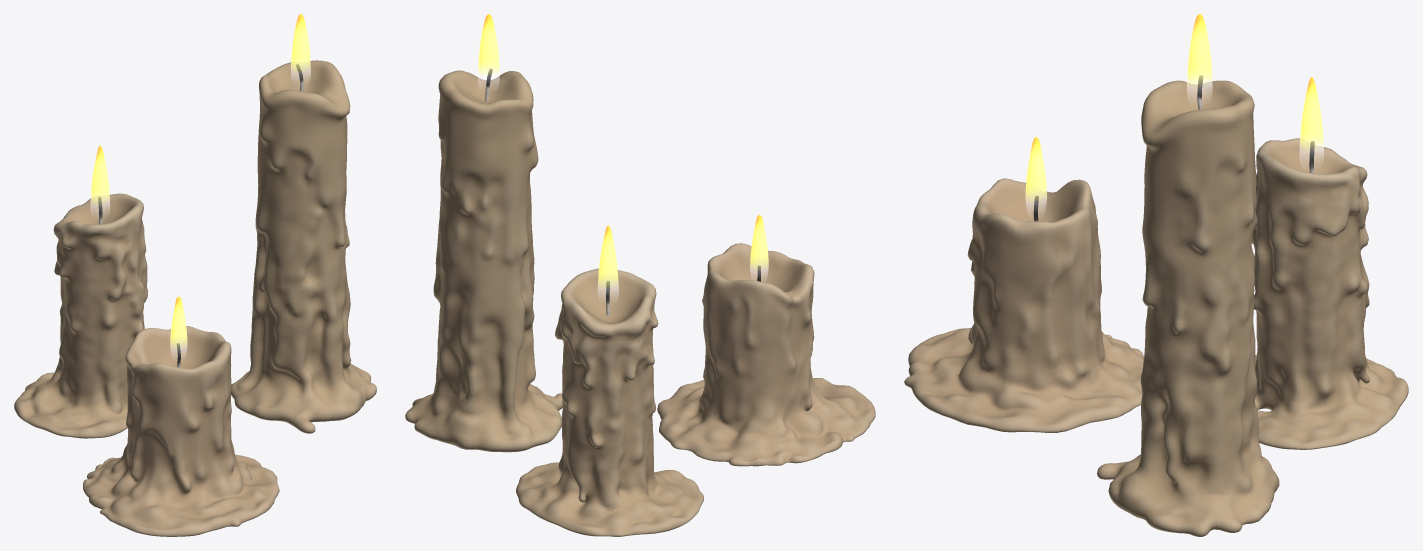
The picture shows the model from 3 angles, left to right: view 1: azimuth 30°, elevation 25°; view 2: azimuth 150°, elevation 25°; view 3: azimuth 270°, elevation 25°; orthographic projection. The views are drawn at different scales.
Parts seen in each view (by area): view 1: candle_1_0, candle_3_4, candle_2_2, Flame_1_8, Flame_2_7, Flame_3_6; view 2: candle_1_0, candle_3_4, candle_2_2, Flame_1_8, Flame_2_7, Flame_3_6; view 3: candle_1_0, candle_3_4, candle_2_2, Flame_1_8, Flame_2_7, Flame_3_6.
Part boxes in pixels (x1,y1,x2,y2): candle_1_0: (231, 60, 376, 433); candle_3_4: (83, 326, 279, 536); candle_2_2: (14, 193, 147, 438); Flame_1_8: (291, 14, 310, 82); Flame_2_7: (90, 145, 109, 214); Flame_3_6: (170, 296, 187, 356); candle_1_0: (405, 70, 562, 452); candle_3_4: (657, 243, 875, 466); candle_2_2: (516, 268, 703, 536); Flame_1_8: (478, 14, 499, 87); Flame_2_7: (597, 225, 618, 299); Flame_3_6: (750, 215, 768, 279); candle_1_0: (1097, 80, 1279, 536); candle_3_4: (904, 178, 1143, 432); candle_2_2: (1251, 138, 1408, 449); Flame_1_8: (1187, 14, 1212, 99); Flame_2_7: (1299, 77, 1323, 163); Flame_3_6: (1025, 137, 1046, 213).
Bounding box in the file's own units: 0.2037 × 0.2194 × 0.2083.
Materials: 4 (4 with a texture image).
